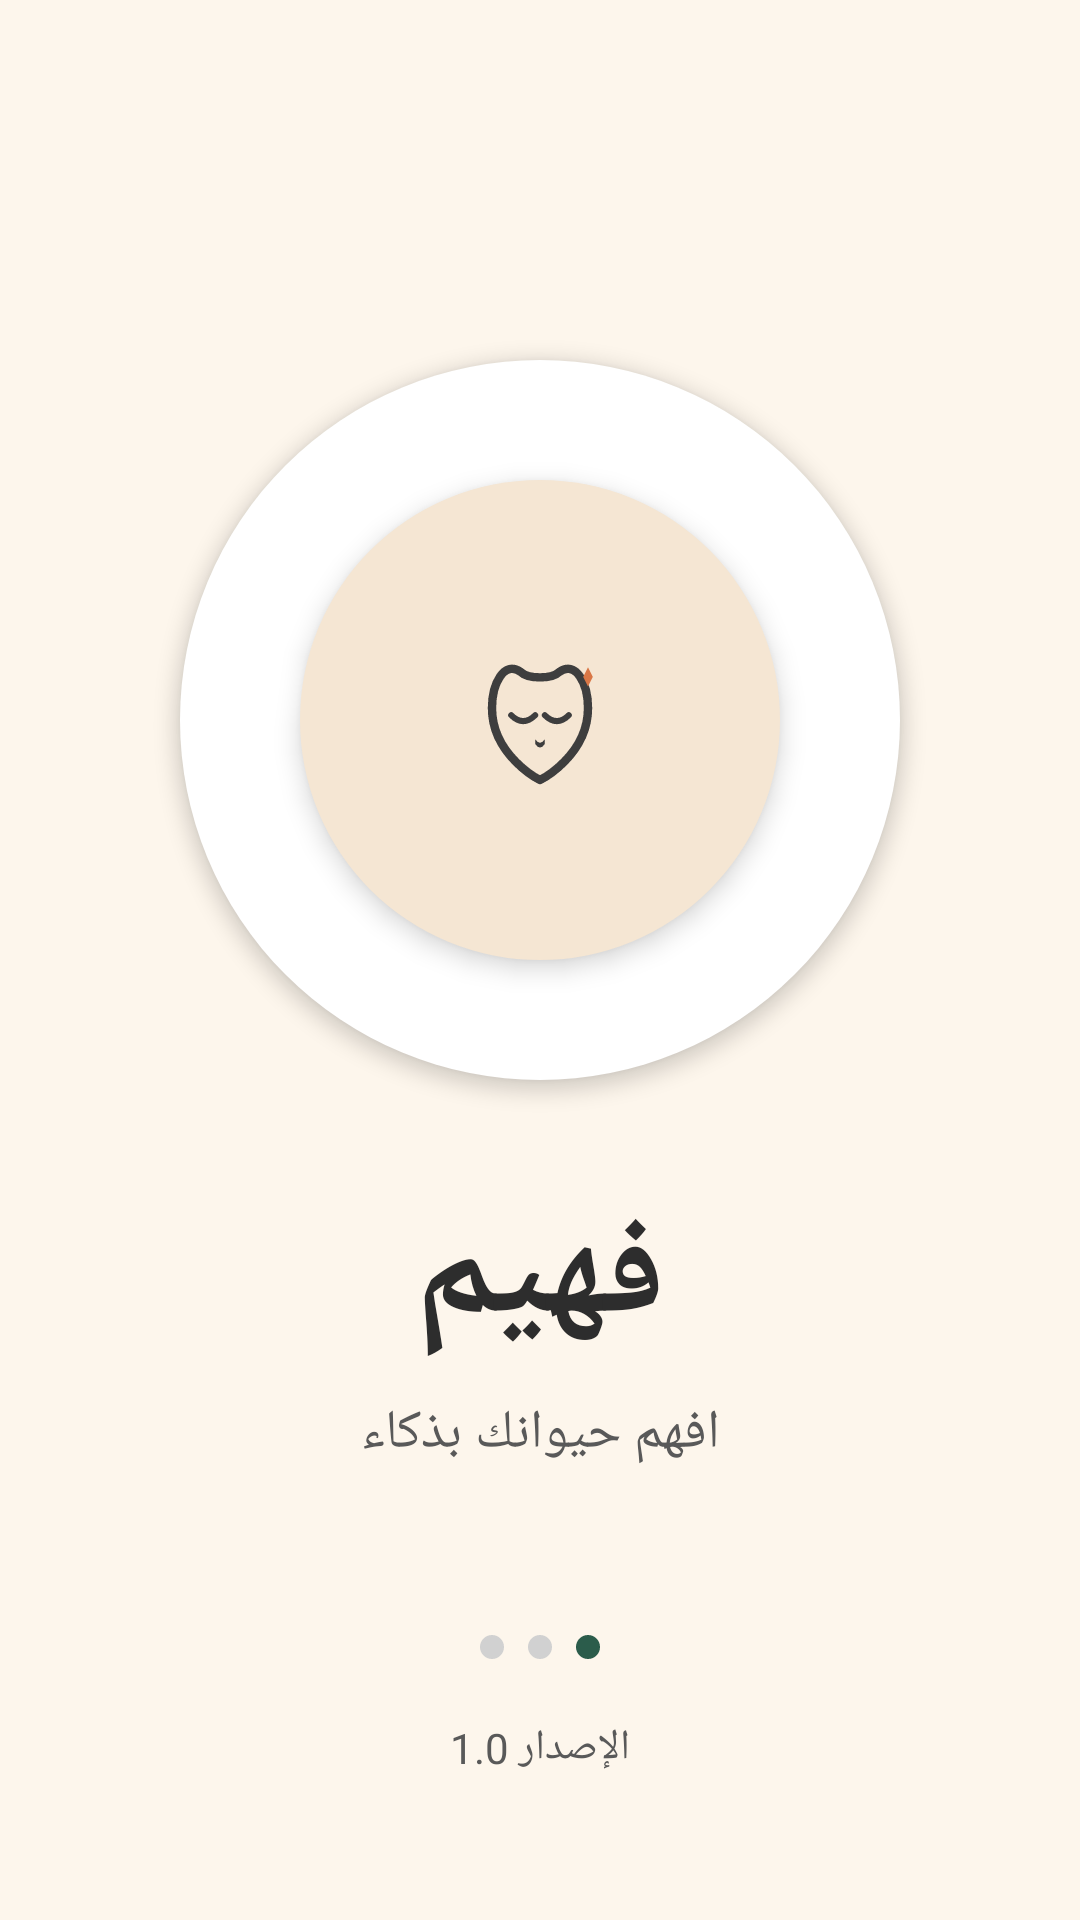

Named icons in this screenshot (1080 x 1920) and their centers, (x,y):
faheem cat: (540,724)
